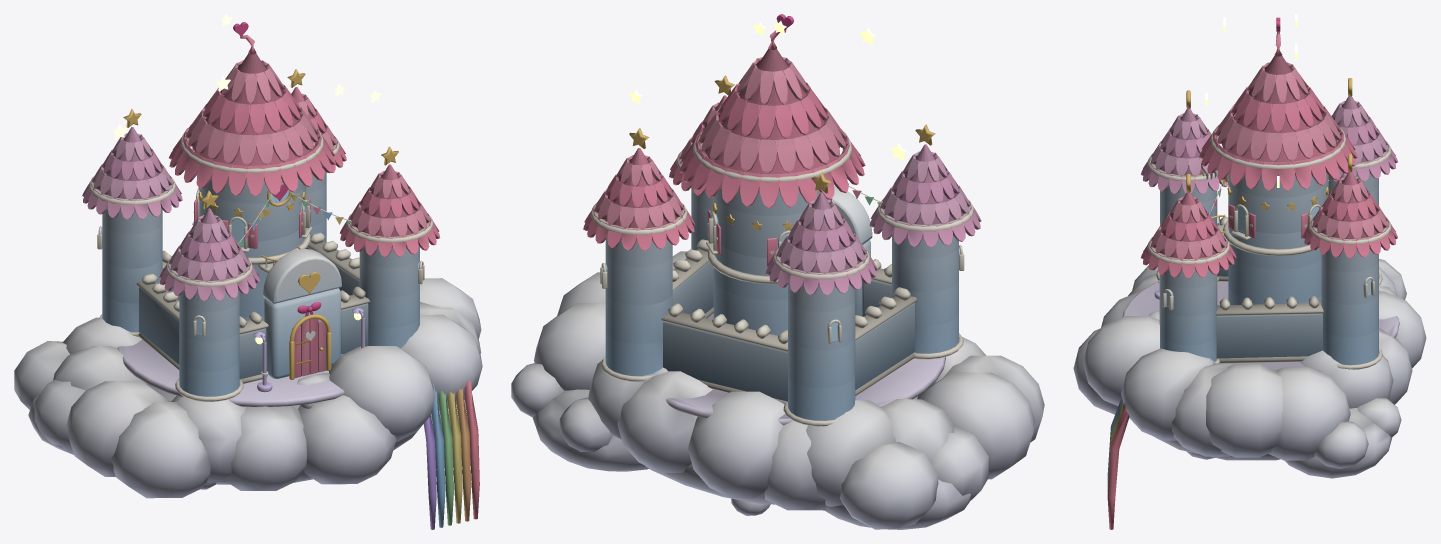
Rendered from cloud-gardens-castle.glb.
3 renders of one model, left to right at view 1: azimuth 30°, elevation 25°; view 2: azimuth 150°, elevation 25°; view 3: azimuth 270°, elevation 25°, orthographic. The views are drawn at different scales.
Parts seen in each view (by area): view 1: W_CLOUD_GARDENS_CASTLE__body; view 2: W_CLOUD_GARDENS_CASTLE__body; view 3: W_CLOUD_GARDENS_CASTLE__body.
Boxes of the visible parts, x1,y1,x2,y2 form: W_CLOUD_GARDENS_CASTLE__body: (14, 14, 482, 529); W_CLOUD_GARDENS_CASTLE__body: (511, 14, 1044, 529); W_CLOUD_GARDENS_CASTLE__body: (1073, 14, 1426, 529).
Bounding box in the file's own units: 1.82 × 2 × 1.44.
